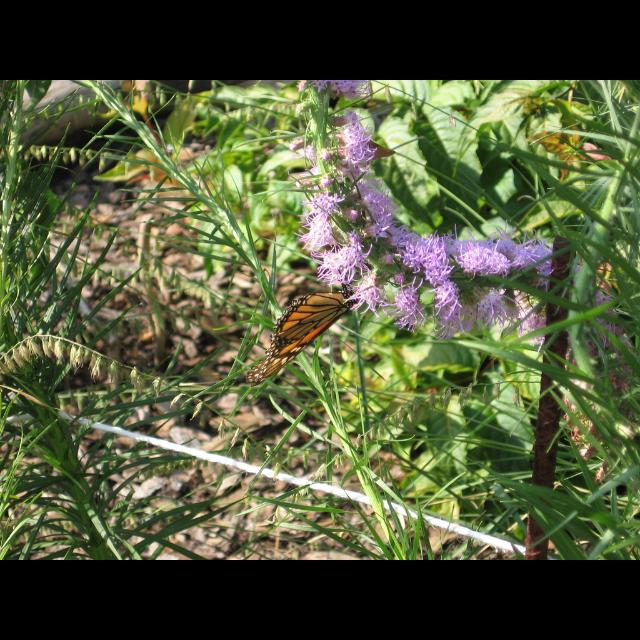Flower: (289, 80, 633, 388), (376, 273, 422, 325)
